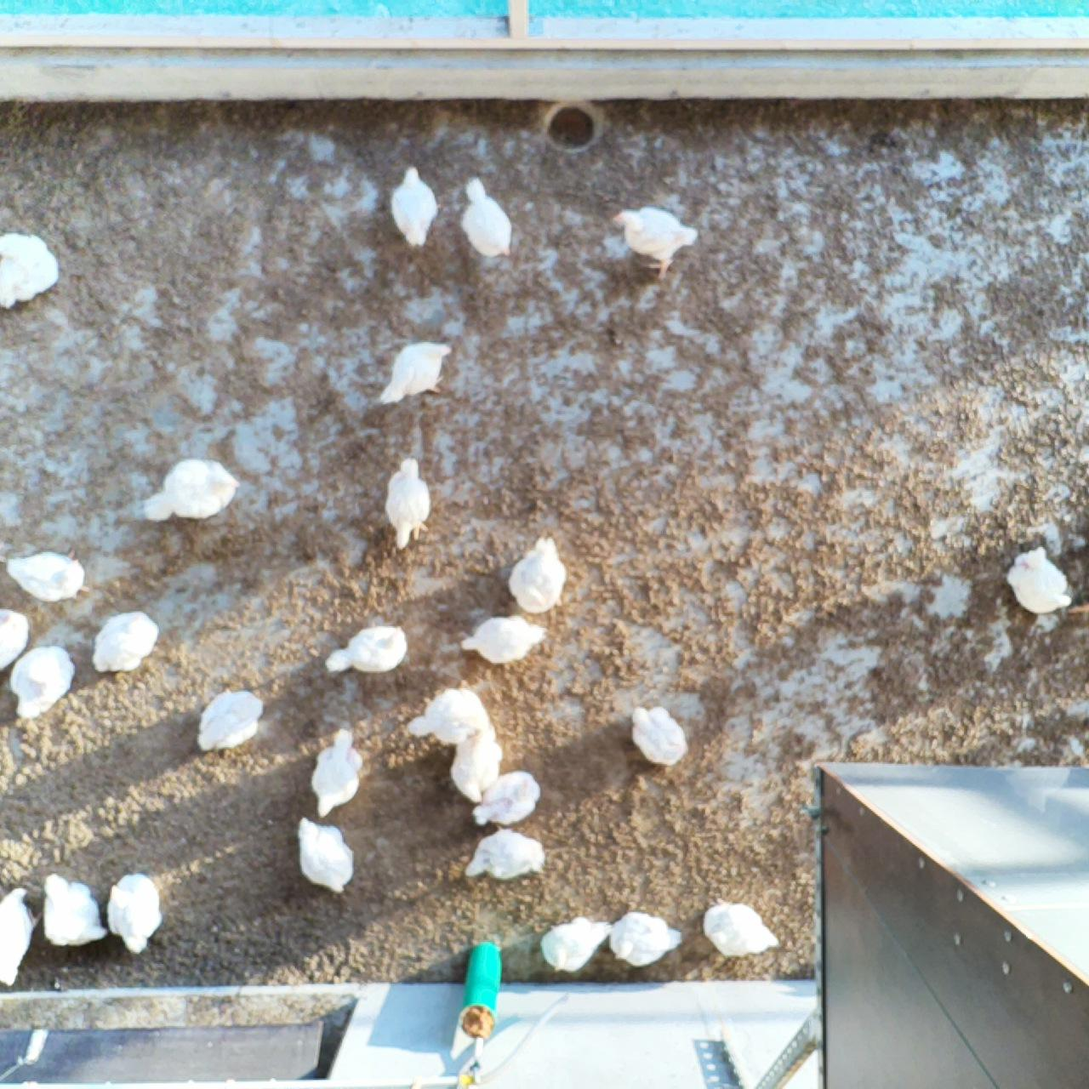chicken: (609, 202, 701, 279), (143, 456, 241, 527), (405, 678, 493, 742), (194, 684, 268, 759), (378, 337, 454, 410), (9, 640, 76, 722), (0, 228, 62, 316), (1009, 544, 1081, 618), (0, 544, 88, 603), (292, 814, 356, 895), (307, 726, 363, 818), (41, 868, 105, 947), (105, 869, 164, 954), (507, 533, 567, 613), (461, 174, 517, 259), (699, 901, 781, 958), (383, 456, 432, 550), (539, 917, 615, 977), (91, 611, 162, 674), (605, 911, 683, 968), (322, 624, 409, 675), (460, 613, 548, 663), (463, 830, 544, 884), (447, 725, 503, 802), (390, 166, 439, 250), (628, 702, 690, 768), (470, 770, 543, 825), (0, 887, 40, 985), (0, 601, 28, 673)
